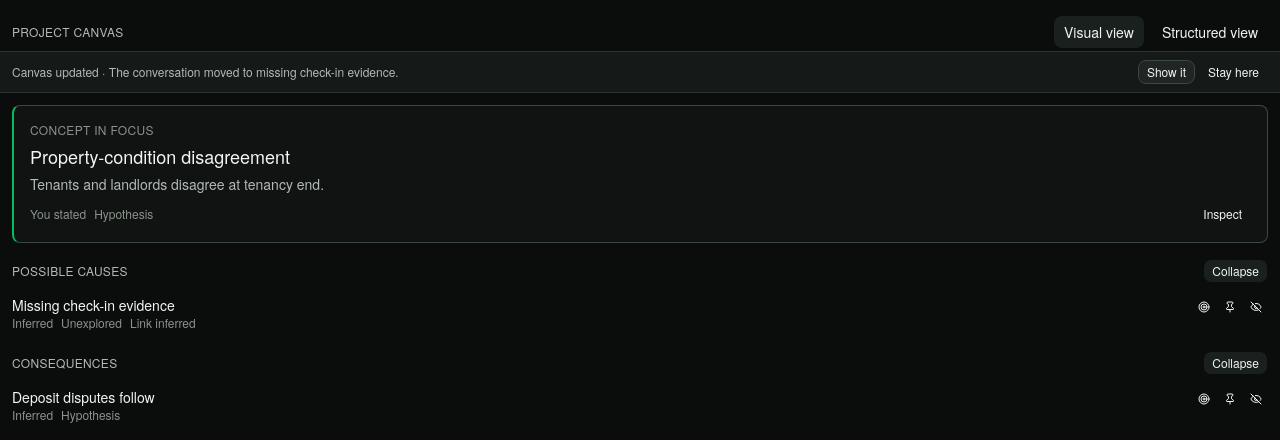
recommended scenes › lets the user decline and stay where they are
The width and height of the screenshot is (1280, 440).
Click the button "Stay here" at (1234, 72), box [1199, 60, 1268, 84]
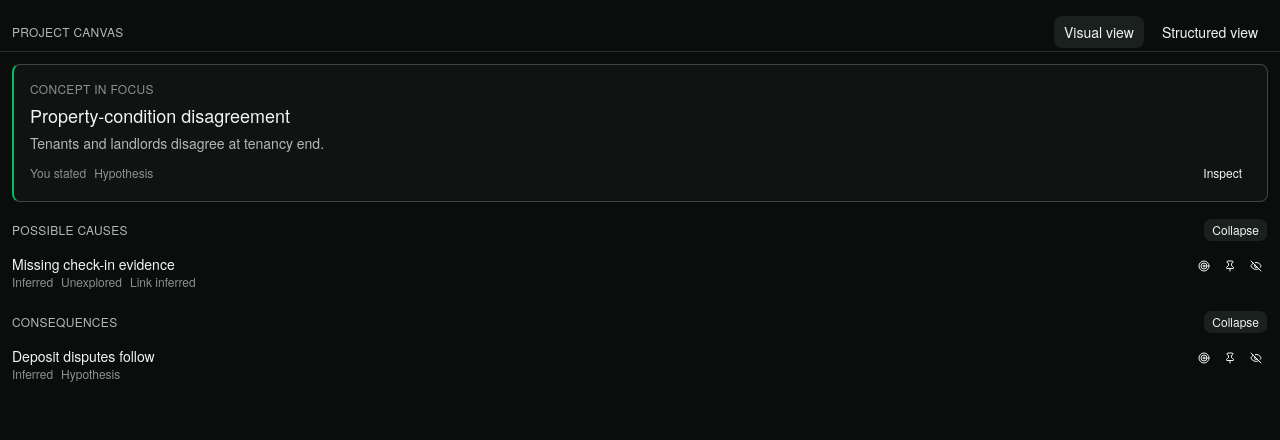
Expected: the element named "Object in focus" shows "Property-condition disagreement", [30, 102, 290, 128]
Expected: the button "Show it" is gone
